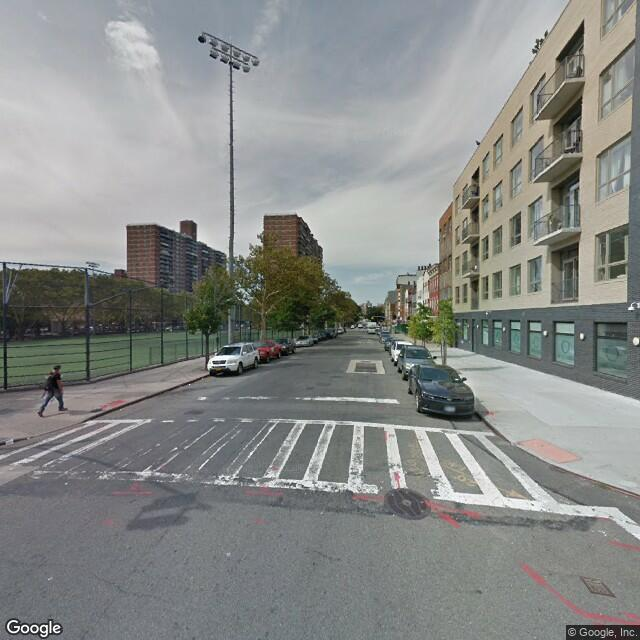litter: (5, 437, 17, 448), (225, 548, 233, 558), (46, 575, 55, 582), (25, 433, 32, 441), (63, 479, 72, 485), (200, 377, 207, 384), (117, 407, 125, 413), (188, 381, 192, 387)
